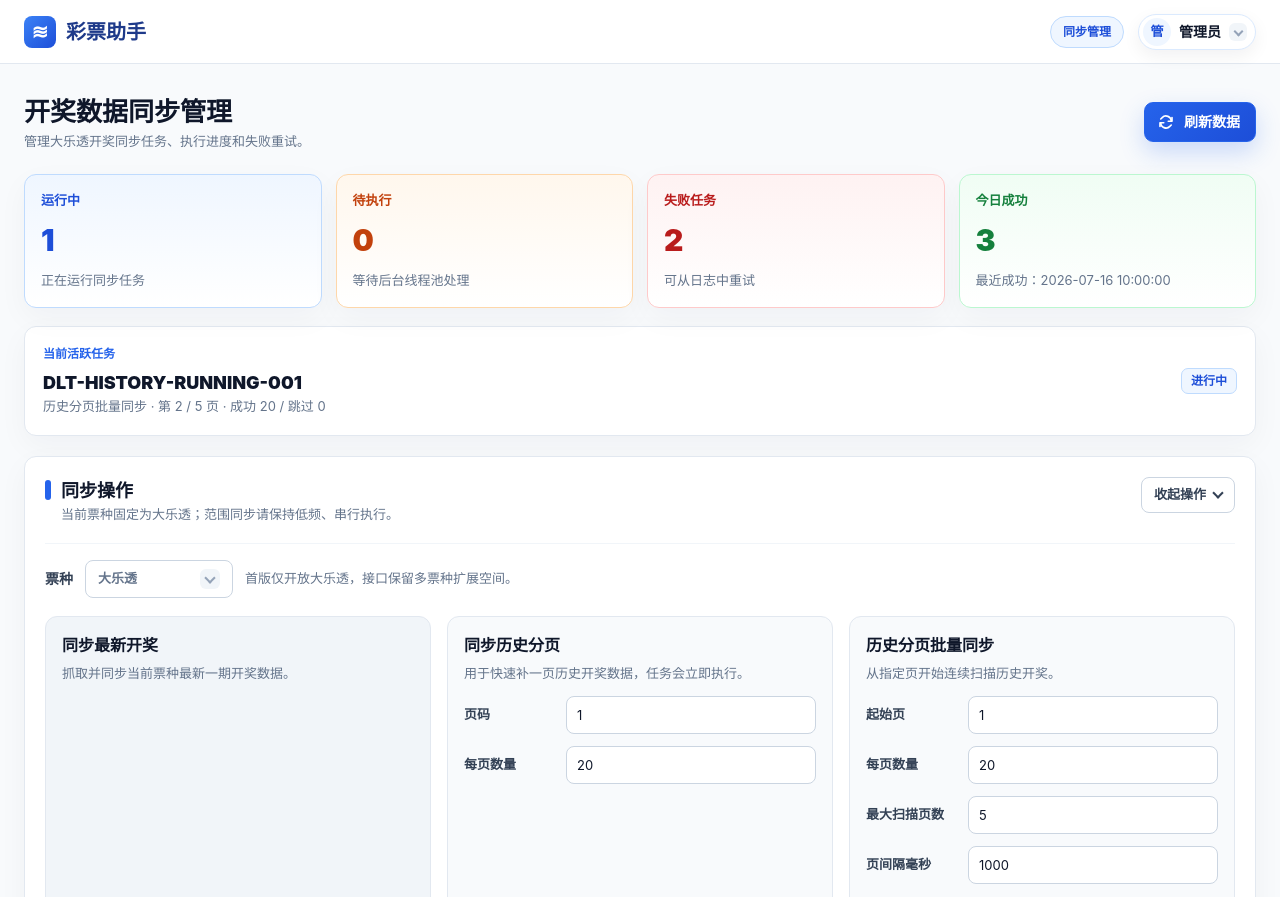
Test: AdminLotterySyncView › collapses and expands sync operation cards
This screenshot has width=1280, height=897.
Click the button with class "collapse-button".
click(1188, 495)  # box [1141,477,1235,513]
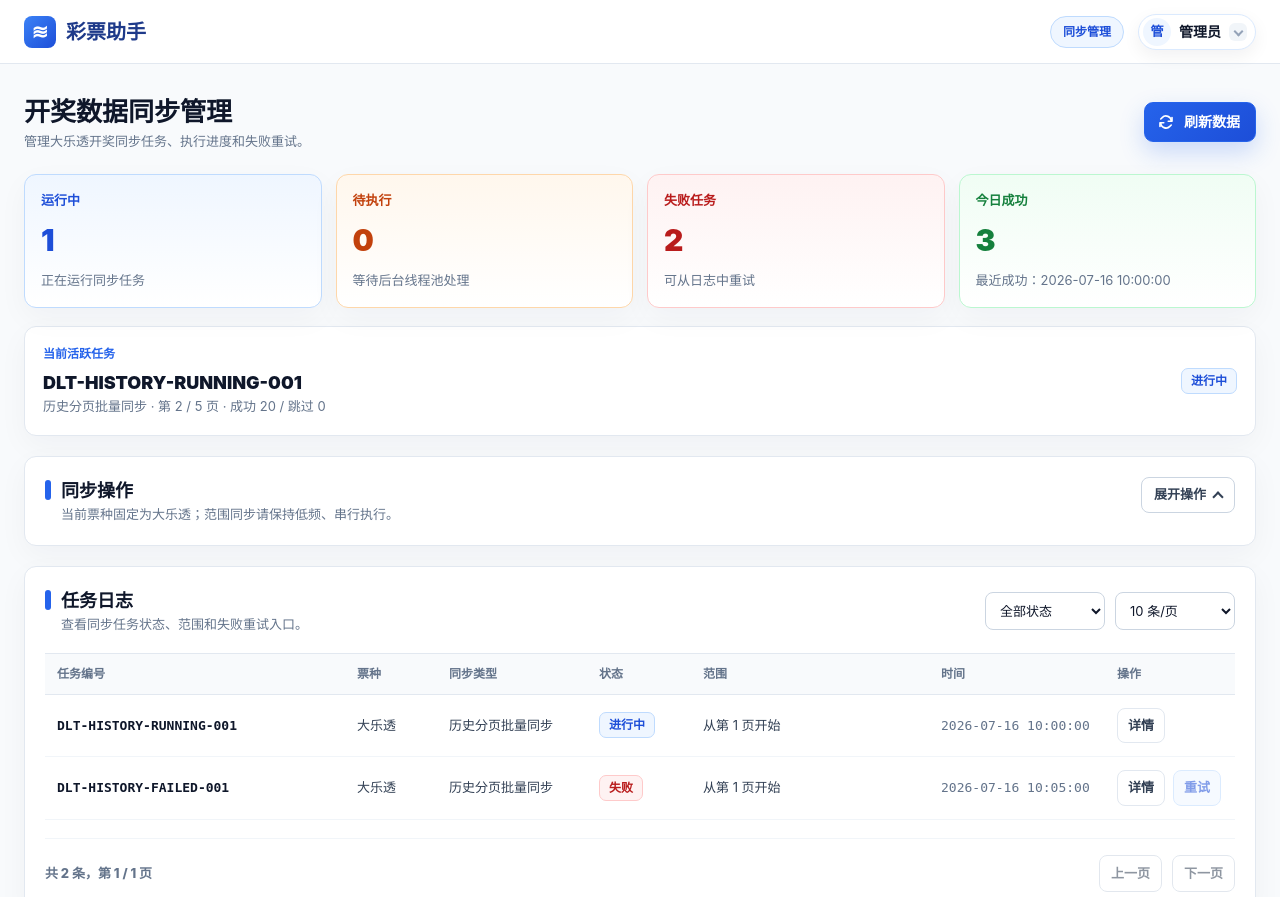
Result: the button with class "collapse-button" reads "展开操作"
Click the button with class "collapse-button".
click(1188, 495)  # box [1141,477,1235,513]
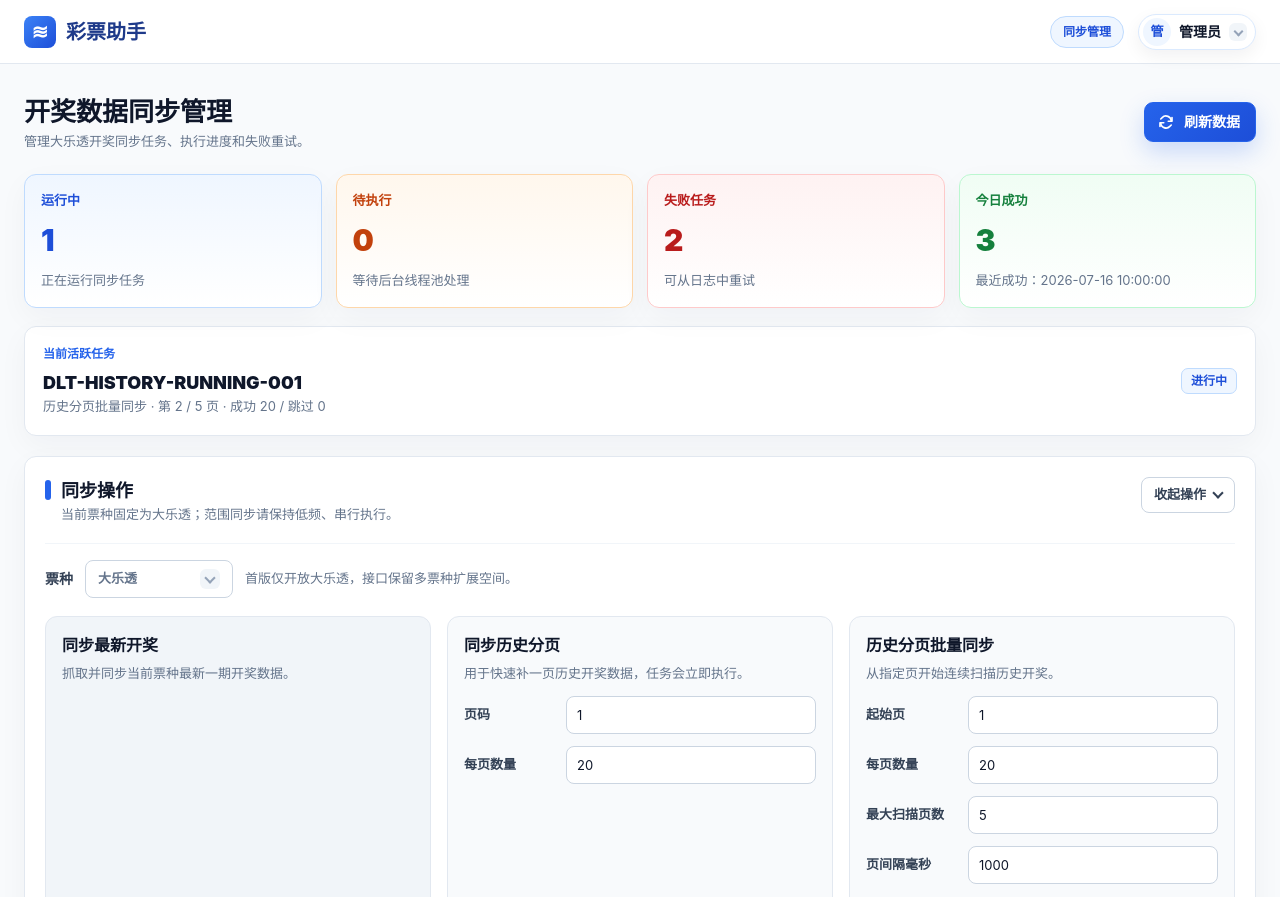
Result: the button with class "collapse-button" reads "收起操作" at [1141,477,1235,513]
